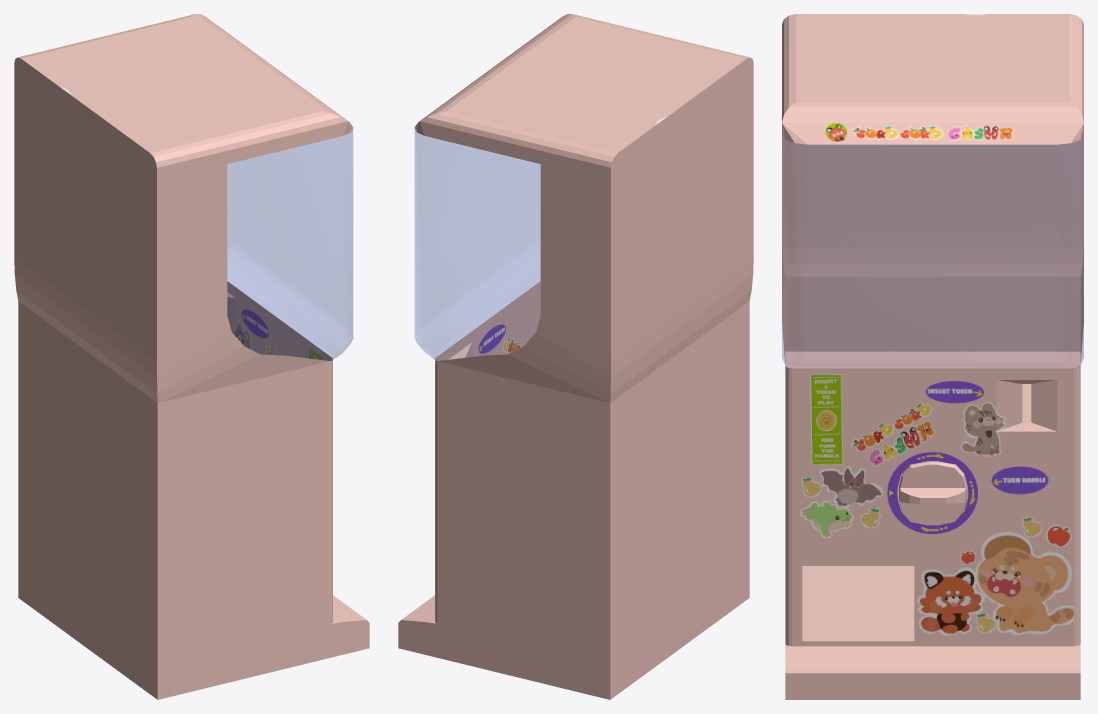
File: gashapon-machine.fbx
3 views of the same model, side by side, from view 1: azimuth 30°, elevation 25°; view 2: azimuth 150°, elevation 25°; view 3: azimuth 270°, elevation 25° (orthographic). The views are drawn at different scales.
Parts seen in each view (by area): view 1: Gashapon-machine, Gashapon-machine-glass; view 2: Gashapon-machine, Gashapon-machine-glass; view 3: Gashapon-machine, Gashapon-machine-glass, Gashapon-machine-handle.
Boxes of the visible parts, x1,y1,x2,y2 form: Gashapon-machine: (14,14,369,699); Gashapon-machine-glass: (227,129,352,360); Gashapon-machine: (398,14,753,699); Gashapon-machine-glass: (415,129,540,360); Gashapon-machine: (782,14,1083,699); Gashapon-machine-glass: (782,136,1083,367); Gashapon-machine-handle: (898,461,967,525).
Size of the model in its own units: 177 by 430 by 205.
